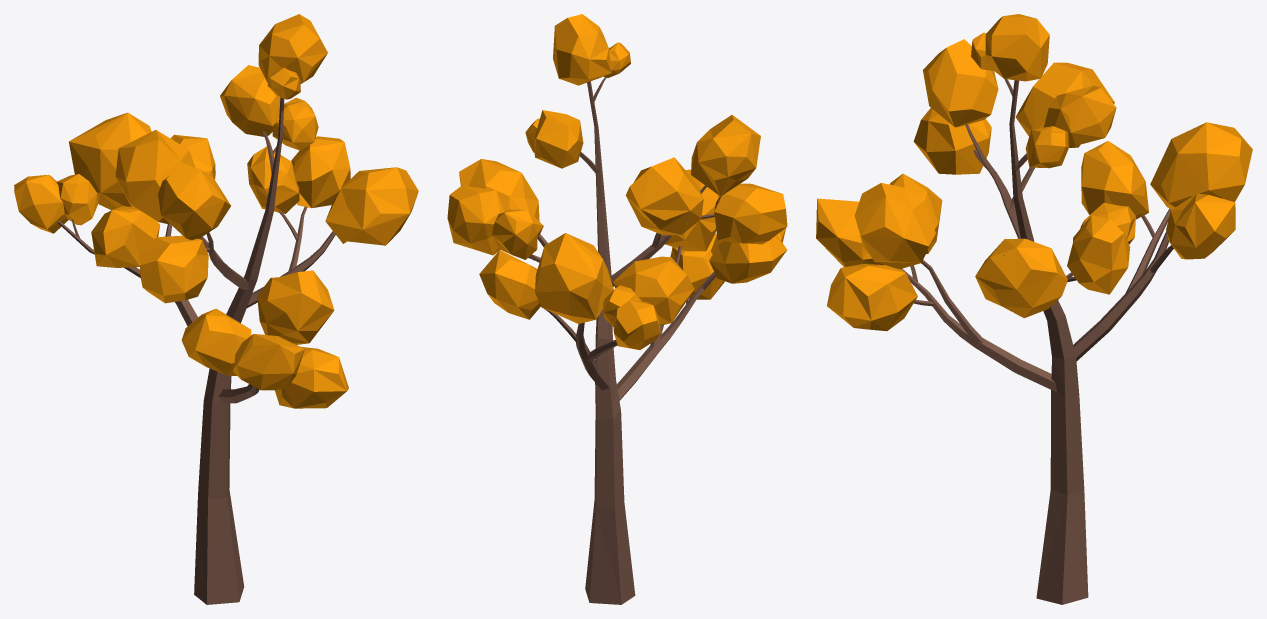
Rendered from fall_tree.glb.
3 renders of one model, left to right at view 1: azimuth 30°, elevation 25°; view 2: azimuth 150°, elevation 25°; view 3: azimuth 270°, elevation 25°, orthographic. The views are drawn at different scales.
Visible parts, largest first — view 1: Node; view 2: Node; view 3: Node.
Boxes of the visible parts, x1,y1,x2,y2 form: Node: (14, 14, 418, 604); Node: (447, 14, 787, 604); Node: (816, 14, 1252, 604).
Size of the model in its own units: 1.88 by 3.35 by 2.18.
